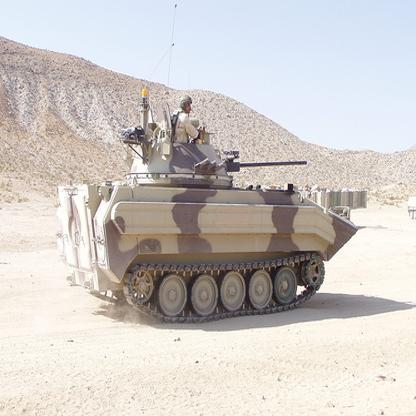Tank: (51, 106, 373, 326)
